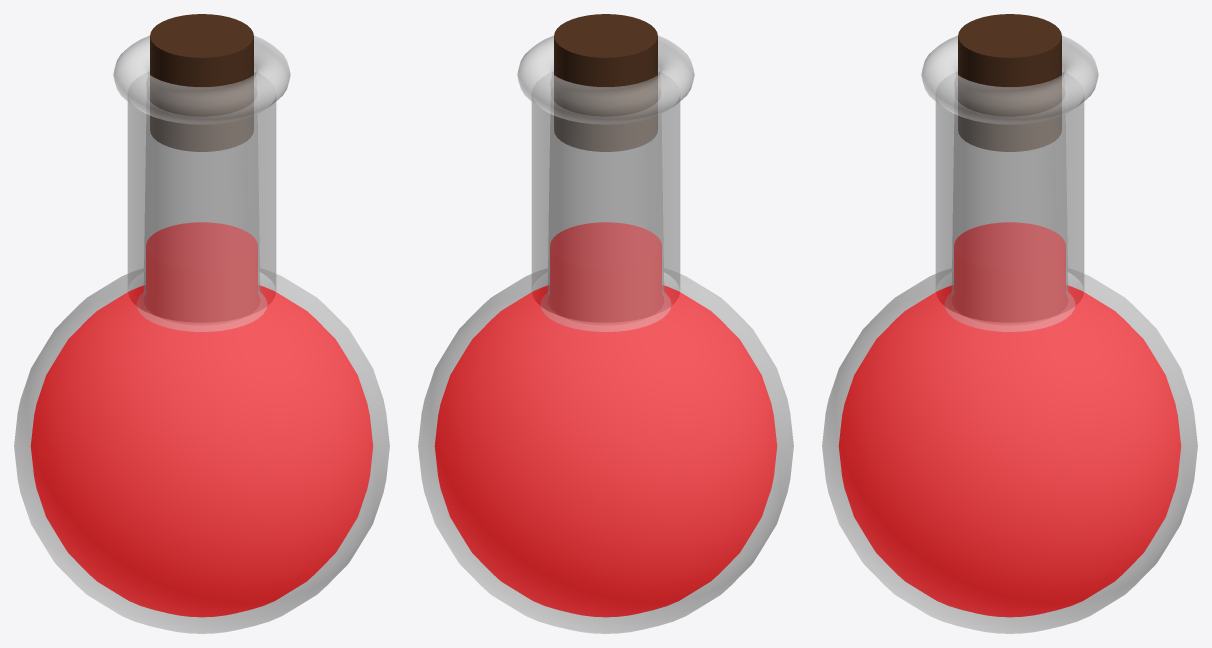
Rendered from HealthPotion.fbx.
3 renders of one model, left to right at view 1: azimuth 30°, elevation 25°; view 2: azimuth 150°, elevation 25°; view 3: azimuth 270°, elevation 25°, orthographic.
Visible parts, largest first — view 1: Bottle, Liquid, Cork; view 2: Bottle, Liquid, Cork; view 3: Bottle, Liquid, Cork.
Boxes of the visible parts, x1,y1,x2,y2 form: Bottle: [14, 35, 389, 633]; Liquid: [30, 222, 373, 617]; Cork: [150, 14, 253, 151]; Bottle: [418, 35, 793, 633]; Liquid: [434, 222, 777, 617]; Cork: [554, 14, 657, 151]; Bottle: [822, 35, 1197, 633]; Liquid: [838, 222, 1181, 617]; Cork: [958, 14, 1061, 151].
Bounding box in the file's own units: 200 × 341 × 200.
